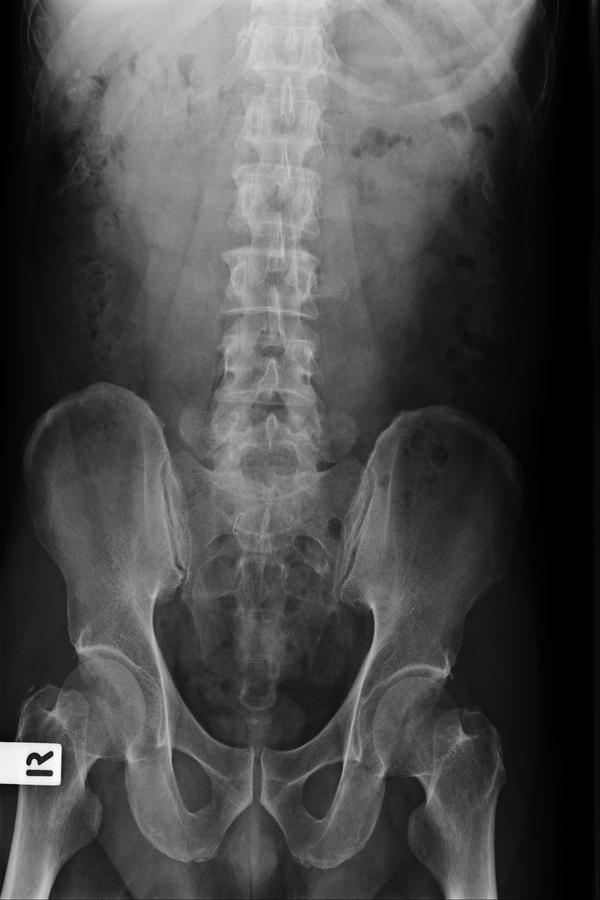lumbar scoliosis: (210, 5, 324, 541)
